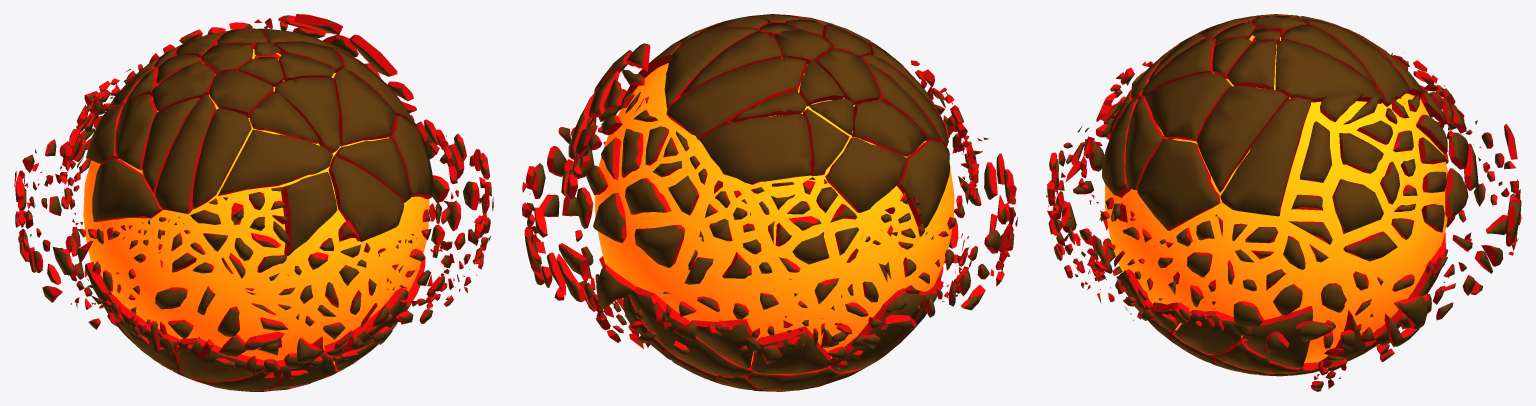
File: planet.glb
3 views of the same model, side by side, from view 1: azimuth 30°, elevation 25°; view 2: azimuth 150°, elevation 25°; view 3: azimuth 270°, elevation 25° (orthographic). The views are drawn at different scales.
Parts seen in each view (by area): view 1: COMBINE LP; view 2: COMBINE LP; view 3: COMBINE LP.
Part boxes in pixels (x1,y1,x2,y2): COMBINE LP: [14, 14, 493, 391]; COMBINE LP: [522, 14, 1017, 391]; COMBINE LP: [1046, 14, 1521, 391].
Bounding box in the file's own units: 261 × 199 × 261.
